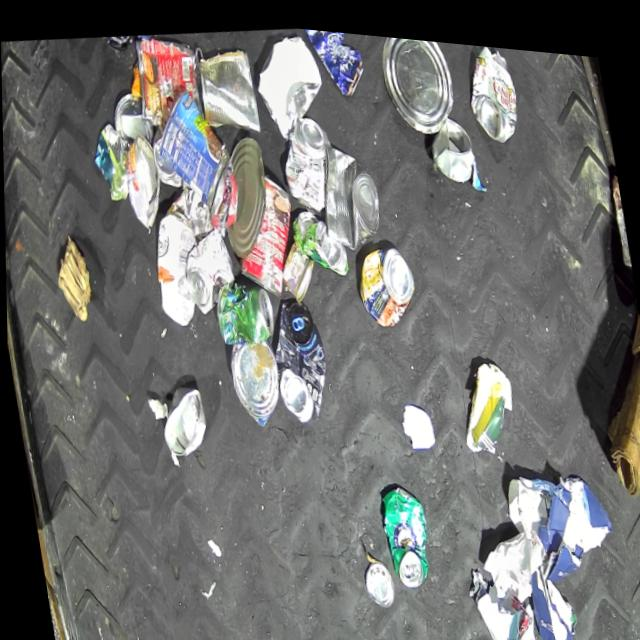can: (151, 77, 239, 213), (224, 164, 304, 297), (375, 28, 462, 134), (264, 291, 334, 422), (311, 130, 385, 249), (212, 128, 277, 256), (130, 29, 205, 126), (275, 106, 340, 211), (193, 39, 262, 137), (376, 474, 435, 586), (461, 35, 524, 139), (352, 233, 421, 325), (180, 220, 240, 315), (225, 333, 285, 427), (213, 272, 278, 346), (120, 128, 167, 229), (305, 23, 368, 98), (155, 380, 211, 462), (290, 199, 350, 275), (426, 103, 477, 176), (276, 234, 320, 299), (109, 86, 155, 147), (609, 162, 632, 261), (149, 122, 183, 187), (360, 551, 395, 603)
